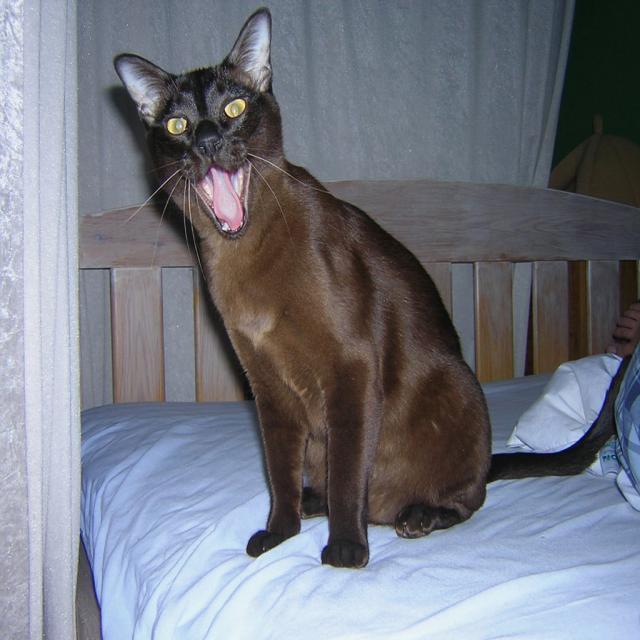Cat: (112, 6, 632, 568)
